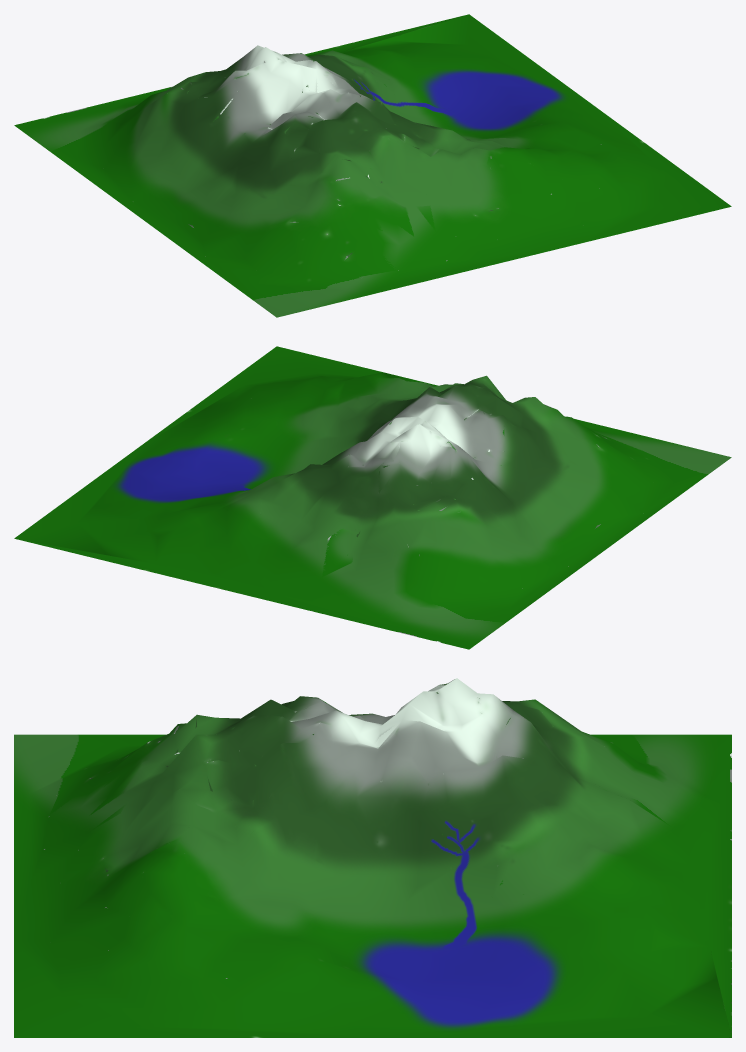
File: Mountains.glb
3 views of the same model, one above another, from view 1: azimuth 30°, elevation 25°; view 2: azimuth 150°, elevation 25°; view 3: azimuth 270°, elevation 25° (orthographic). The views are drawn at different scales.
Visible parts, largest first — view 1: Landscape; view 2: Landscape; view 3: Landscape.
Boxes of the visible parts, box(x1,y1,x2,y2) form: Landscape: box(14, 14, 731, 317); Landscape: box(14, 346, 731, 649); Landscape: box(14, 678, 731, 1037).
Bounding box in the file's own units: 500 × 121 × 500.
1 material, 1 textured.
